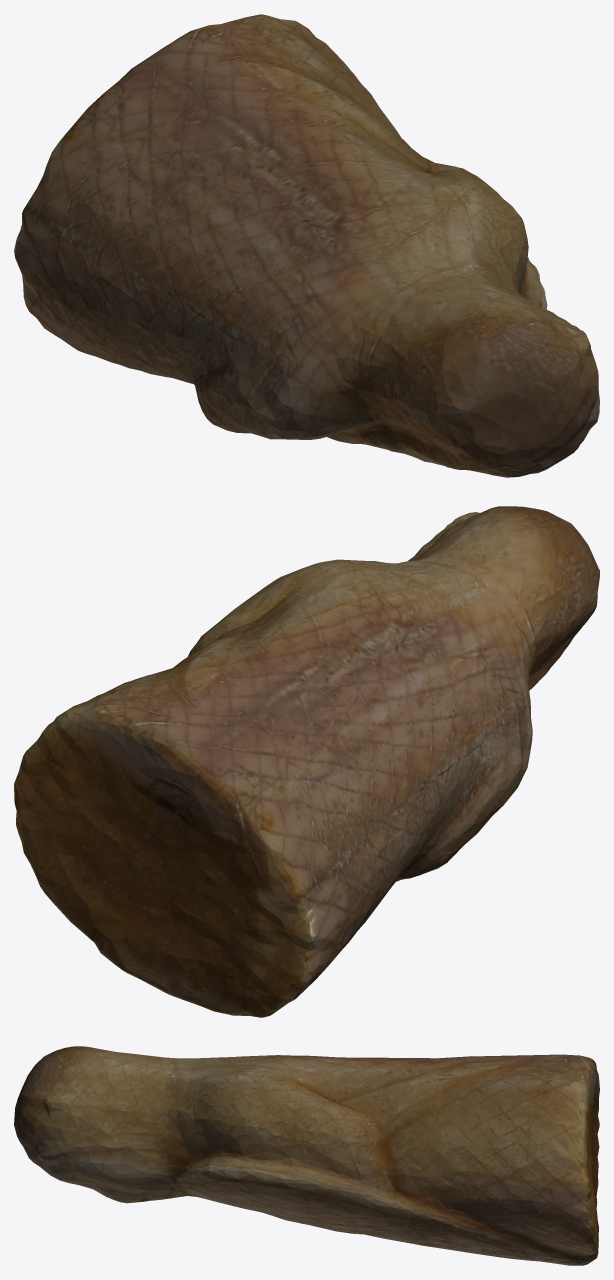
Rendered from pawn1.glb.
3 views of the same model, one above another, from view 1: azimuth 30°, elevation 25°; view 2: azimuth 150°, elevation 25°; view 3: azimuth 270°, elevation 25° (orthographic). The views are drawn at different scales.
Parts seen in each view (by area): view 1: berserker_model; view 2: berserker_model; view 3: berserker_model.
Part boxes in pixels (bbox=[...]): berserker_model: bbox=[14, 14, 599, 477]; berserker_model: bbox=[14, 506, 599, 1017]; berserker_model: bbox=[14, 1046, 599, 1265].
Size of the model in its own units: 1.5 by 1.29 by 3.16.
Materials: 1 (1 with a texture image).
